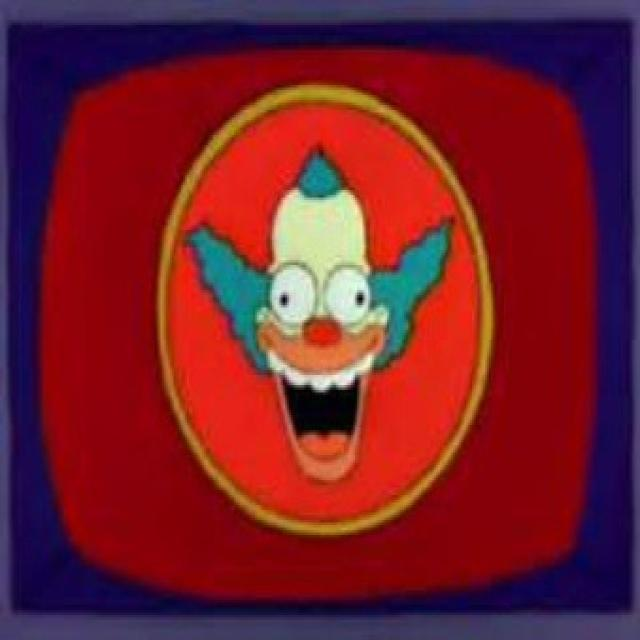Krusty the Clown: (185, 141, 461, 489)
